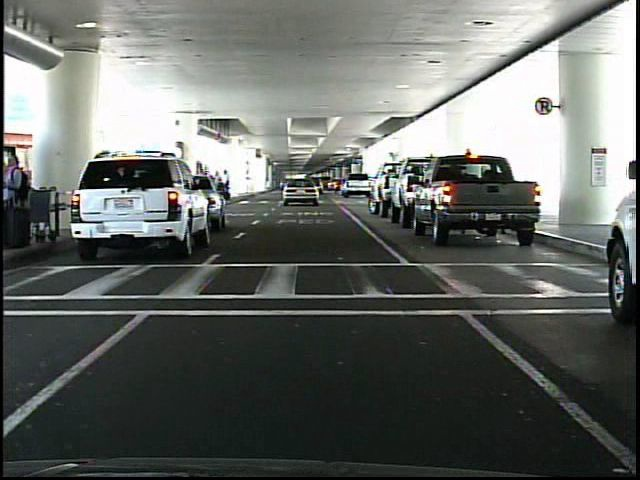person: (7, 153, 32, 254)
